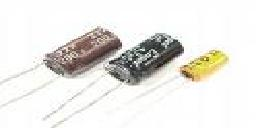Electrolytic Capacitor: (42, 33, 188, 128), (36, 24, 127, 64), (181, 44, 230, 104)
